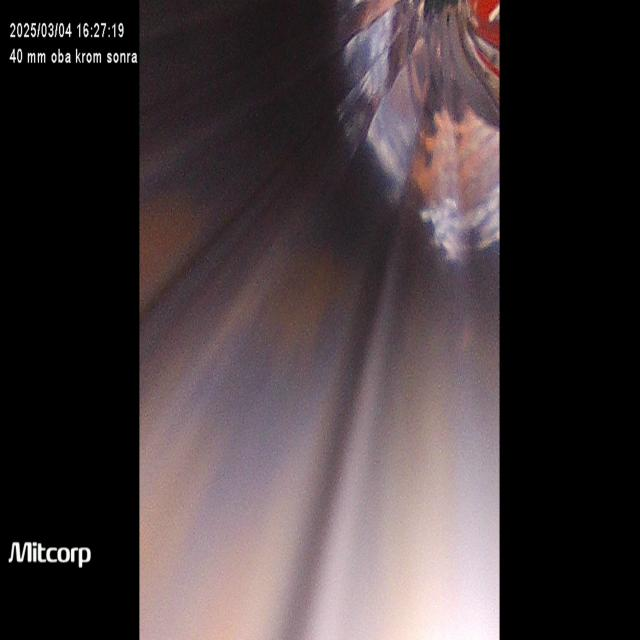hata_4.2: (134, 265, 251, 623), (344, 282, 456, 640), (204, 410, 327, 640), (137, 158, 230, 334), (262, 225, 360, 370)
